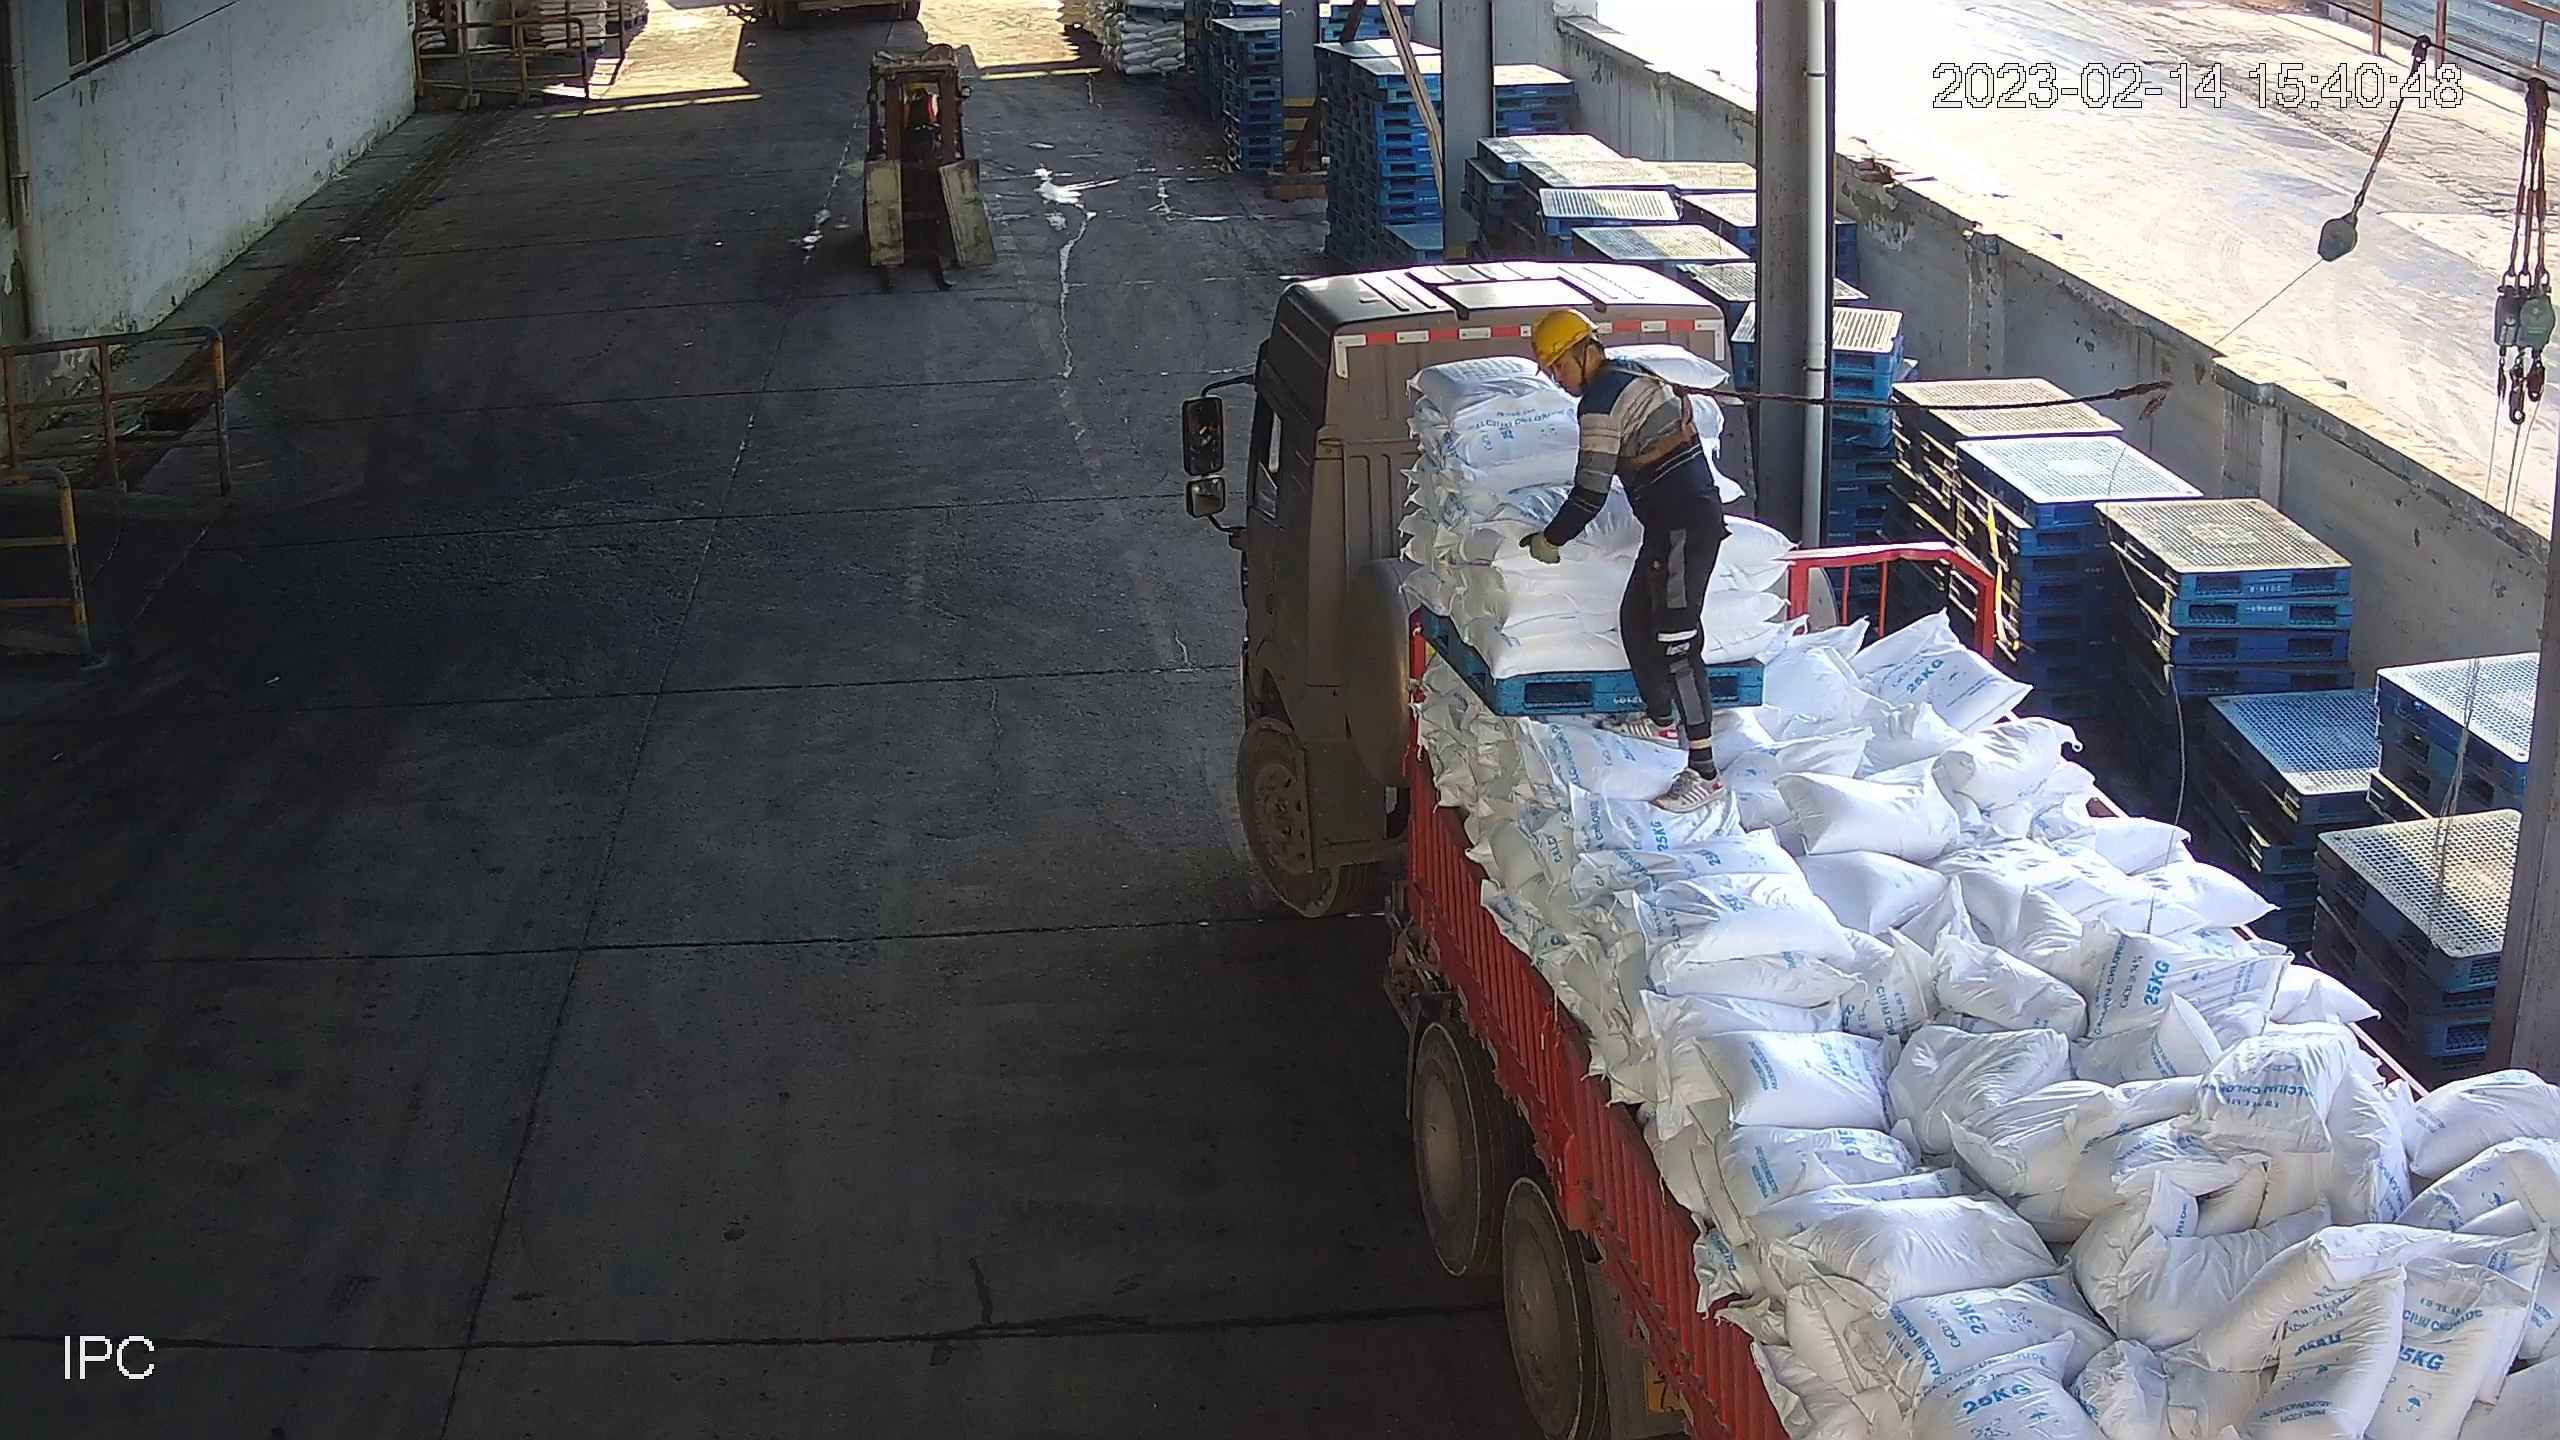belt: (1602, 364, 1720, 472)
head: (1528, 311, 1665, 425)
helmet: (1523, 308, 1597, 372)
people: (1523, 306, 1734, 820)
truck: (1176, 269, 2560, 1440)
